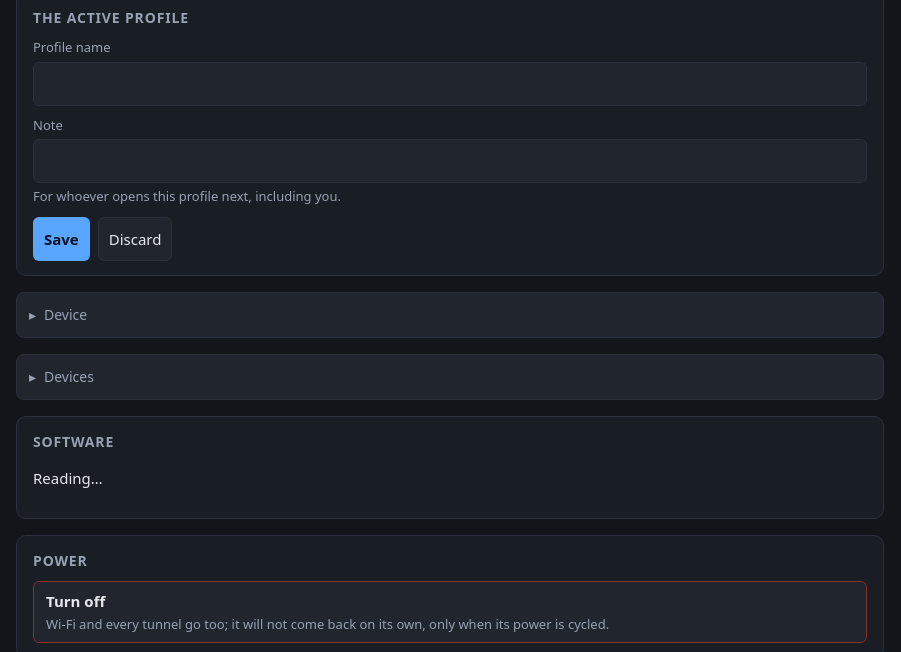
Test case: switching the device off › answers a window that opened after the list was read with the blocked state, not a paragraph
The image size is (901, 652).
(page scrolled)
Click the button "Turn off".
click(450, 612)  # box [33, 581, 867, 643]
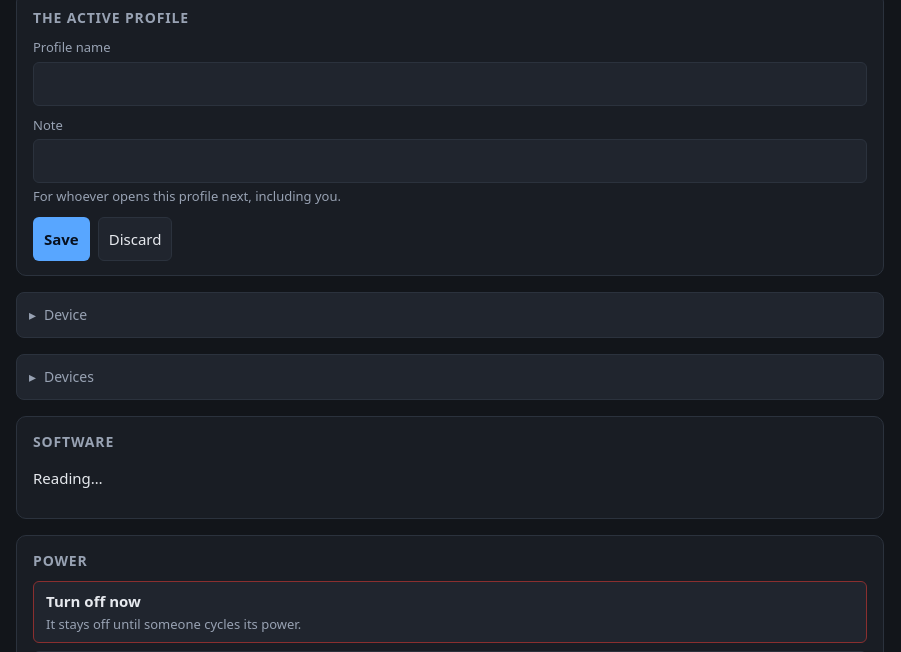
Click the button "Turn off now It stays off until someone cycles its power.".
click(93, 601)  # box [33, 581, 867, 643]
(page scrolled)
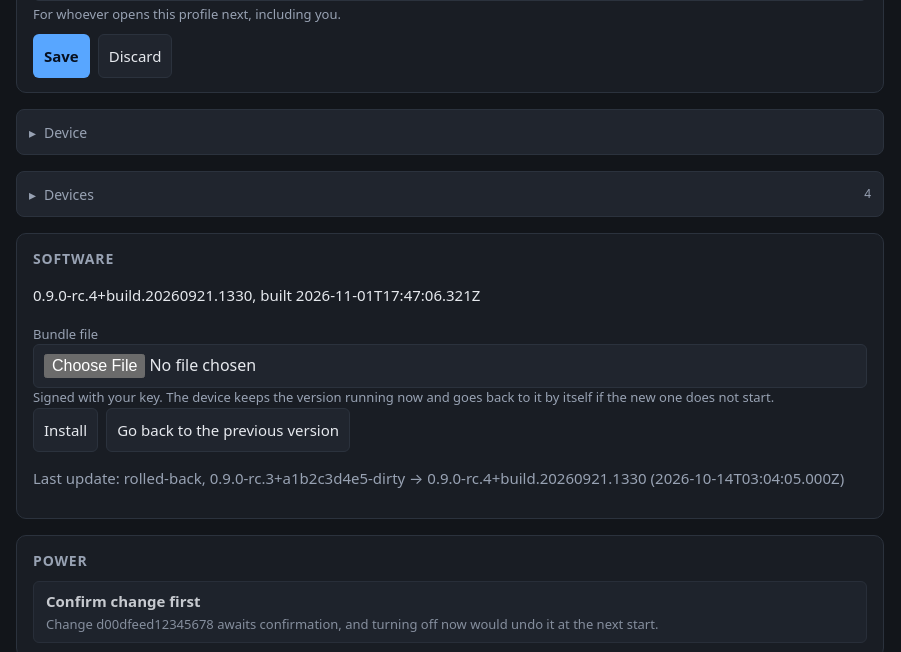
Check: the button "Confirm change first" shows "d00dfeed12345678", box [33, 581, 867, 643]
